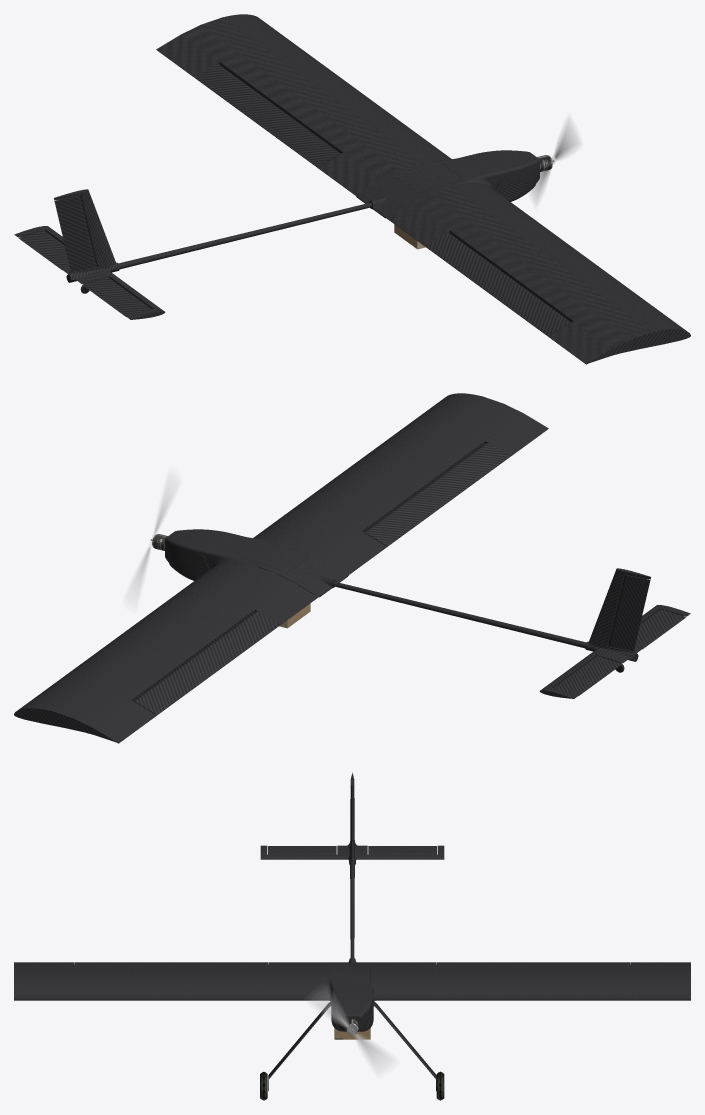
File: caelus-one.glb
3 views of the same model, one above another, from view 1: azimuth 30°, elevation 25°; view 2: azimuth 150°, elevation 25°; view 3: azimuth 270°, elevation 25° (orthographic). The views are drawn at different scales.
Parts seen in each view (by area): view 1: Wing, Fuselage, Alerons.001, Elevator.001, Rudder, UAV.008, Windshield.001; view 2: Wing, Fuselage, Alerons.001, Elevator.001, Rudder, UAV.008, Windshield.001; view 3: Wing, Fuselage, UAV.008, Elevator.001, Alerons.001, Arm.
Part boxes in pixels (<box>): Wing: <box>156,14,690,364</box>; Fuselage: <box>14,150,539,319</box>; Alerons.001: <box>194,64,570,336</box>; Elevator.001: <box>19,230,151,316</box>; Rudder: <box>54,195,96,272</box>; UAV.008: <box>530,119,579,204</box>; Windshield.001: <box>495,176,535,201</box>; Wing: <box>14,393,548,743</box>; Fuselage: <box>165,529,690,698</box>; Alerons.001: <box>134,443,510,715</box>; Elevator.001: <box>553,609,685,695</box>; Rudder: <box>608,574,650,651</box>; UAV.008: <box>125,473,179,607</box>; Windshield.001: <box>169,555,209,580</box>; Wing: <box>14,962,690,1000</box>; Fuselage: <box>260,772,444,1031</box>; UAV.008: <box>309,987,395,1073</box>; Elevator.001: <box>268,846,436,854</box>; Alerons.001: <box>74,962,630,964</box>; Arm: <box>268,1001,436,1091</box>.
Size of the model in its own units: 1.88 by 0.6968 by 2.8.
5 materials, 5 textured.
